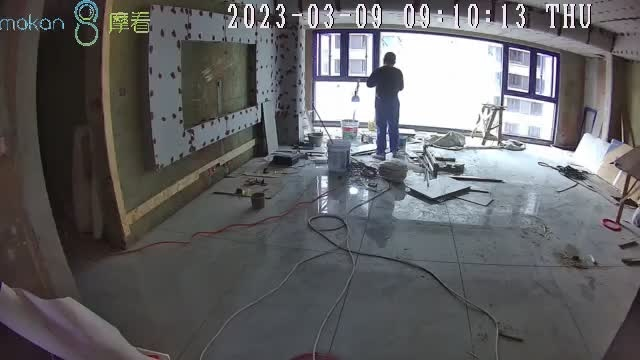people: (367, 51, 404, 160)
window: (311, 27, 559, 140)
